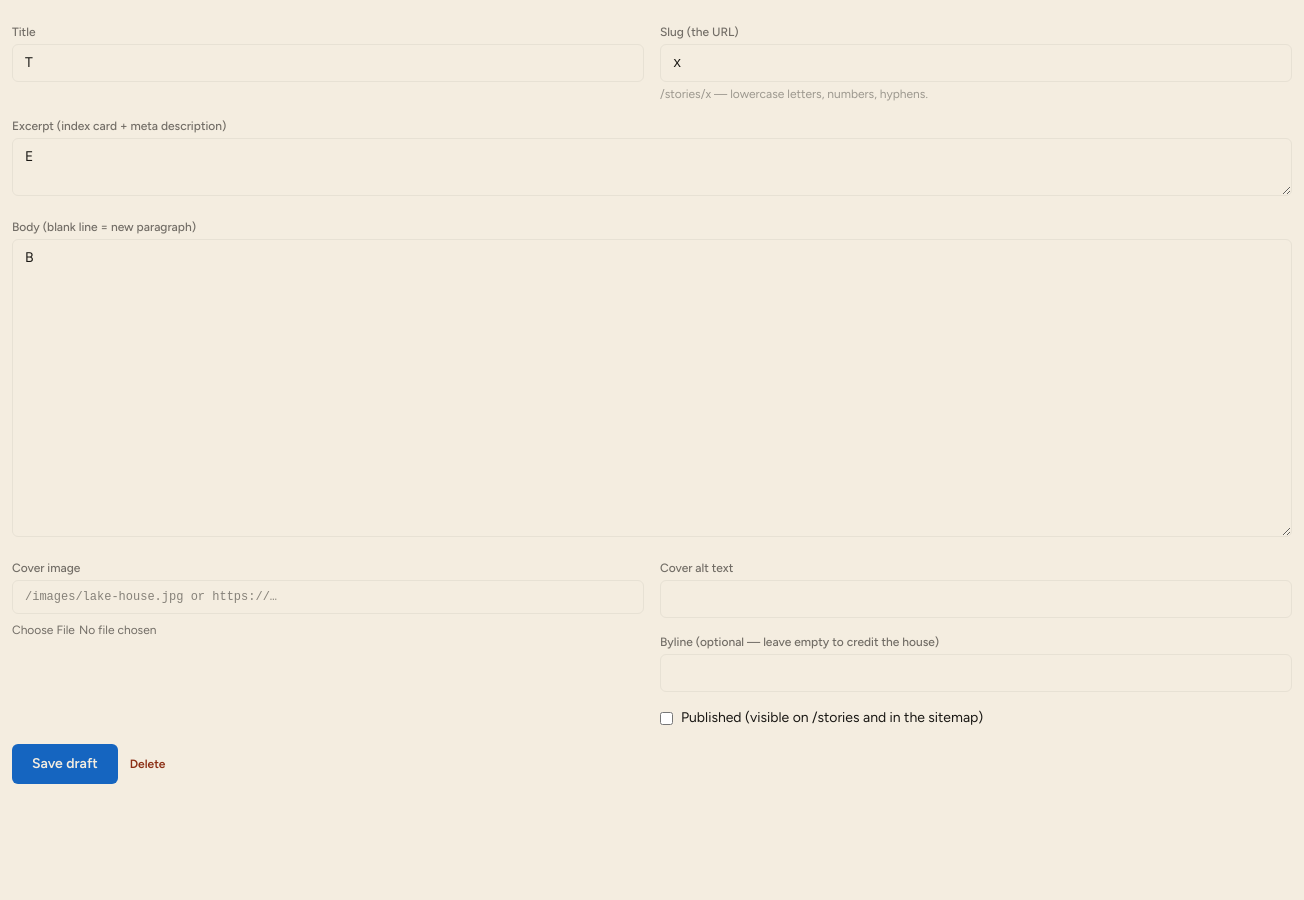
StoryEditor create then save again › reports a network failure on delete instead of appearing to do nothing
Click the button "Delete": point(148, 764) [130,756,166,772]
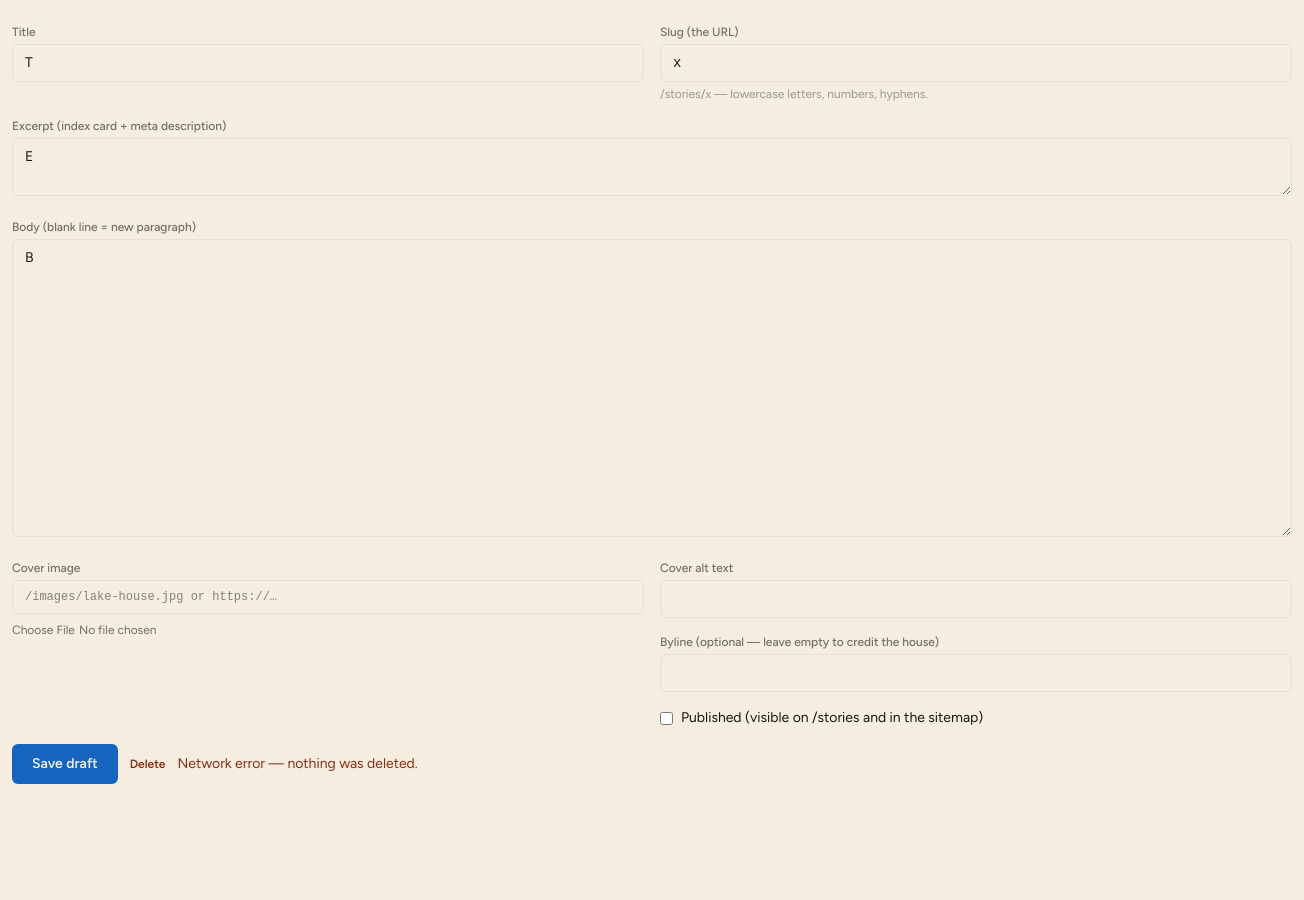
Result: the message shows "Network error" at [177,755,418,772]
